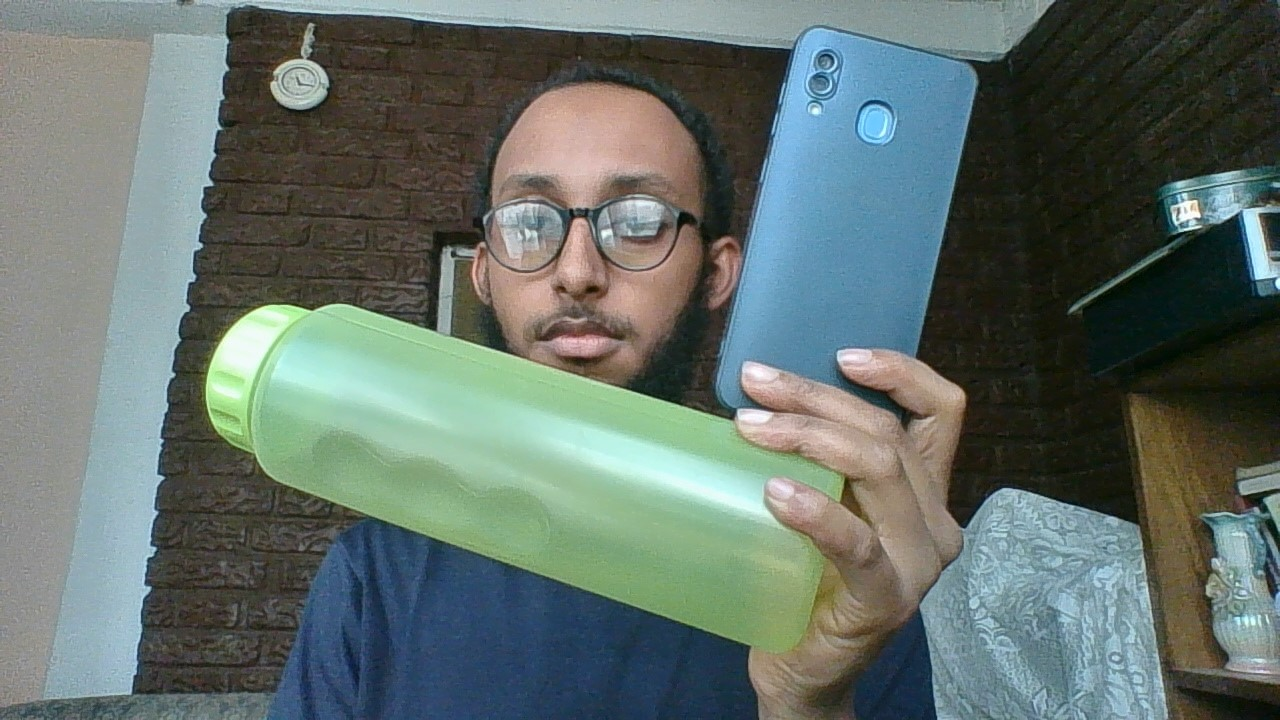Smart_phone: (712, 22, 997, 421)
Water_bottle: (201, 300, 858, 657)
